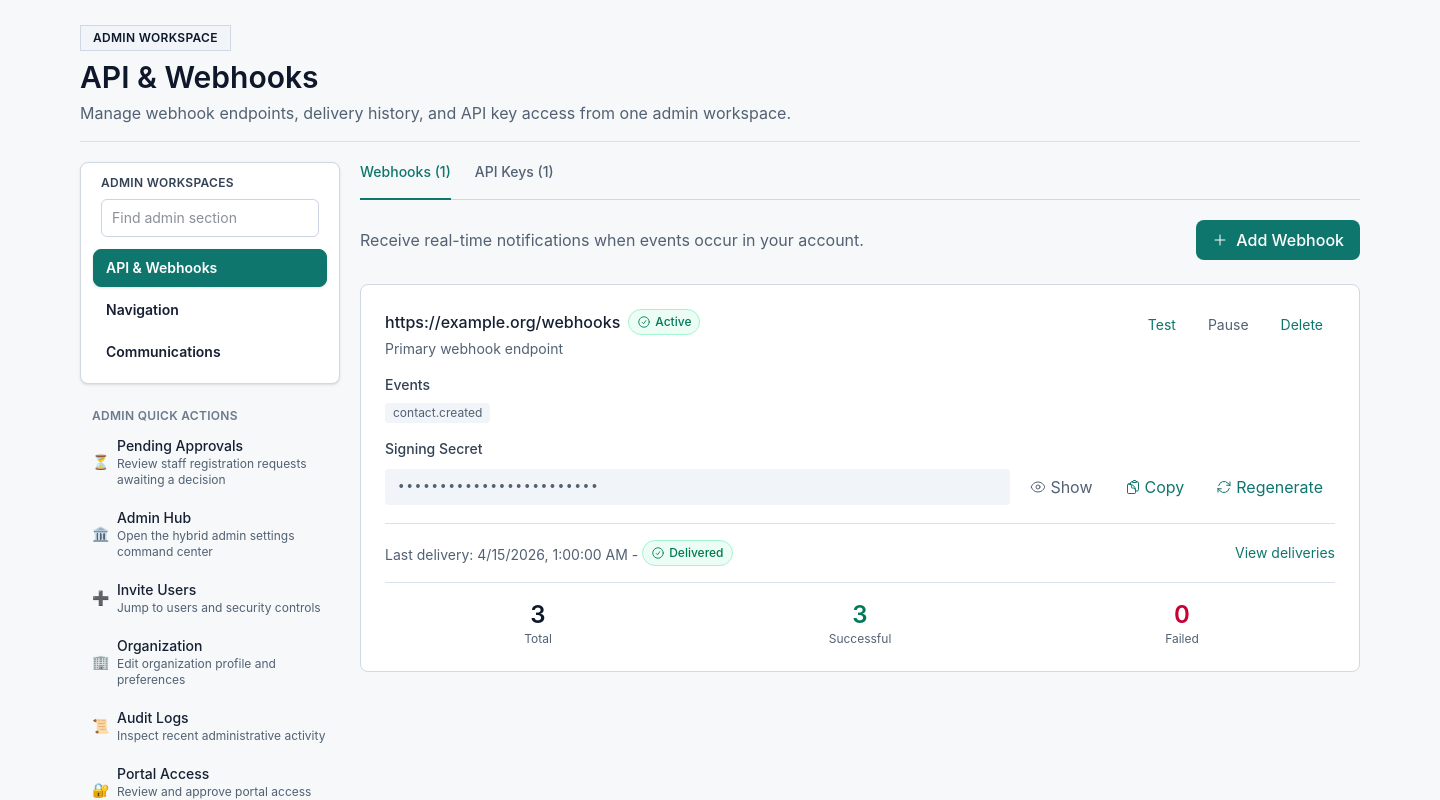
ApiSettingsPage › loads the api settings screen and switches between tabs
Expected: the button "Webhooks (1)" is shown, [360, 162, 451, 200]
Expected: the button "Add Webhook" is shown, [1196, 220, 1360, 260]
Click the button "API Keys (1)" at (514, 180), box [475, 162, 554, 200]
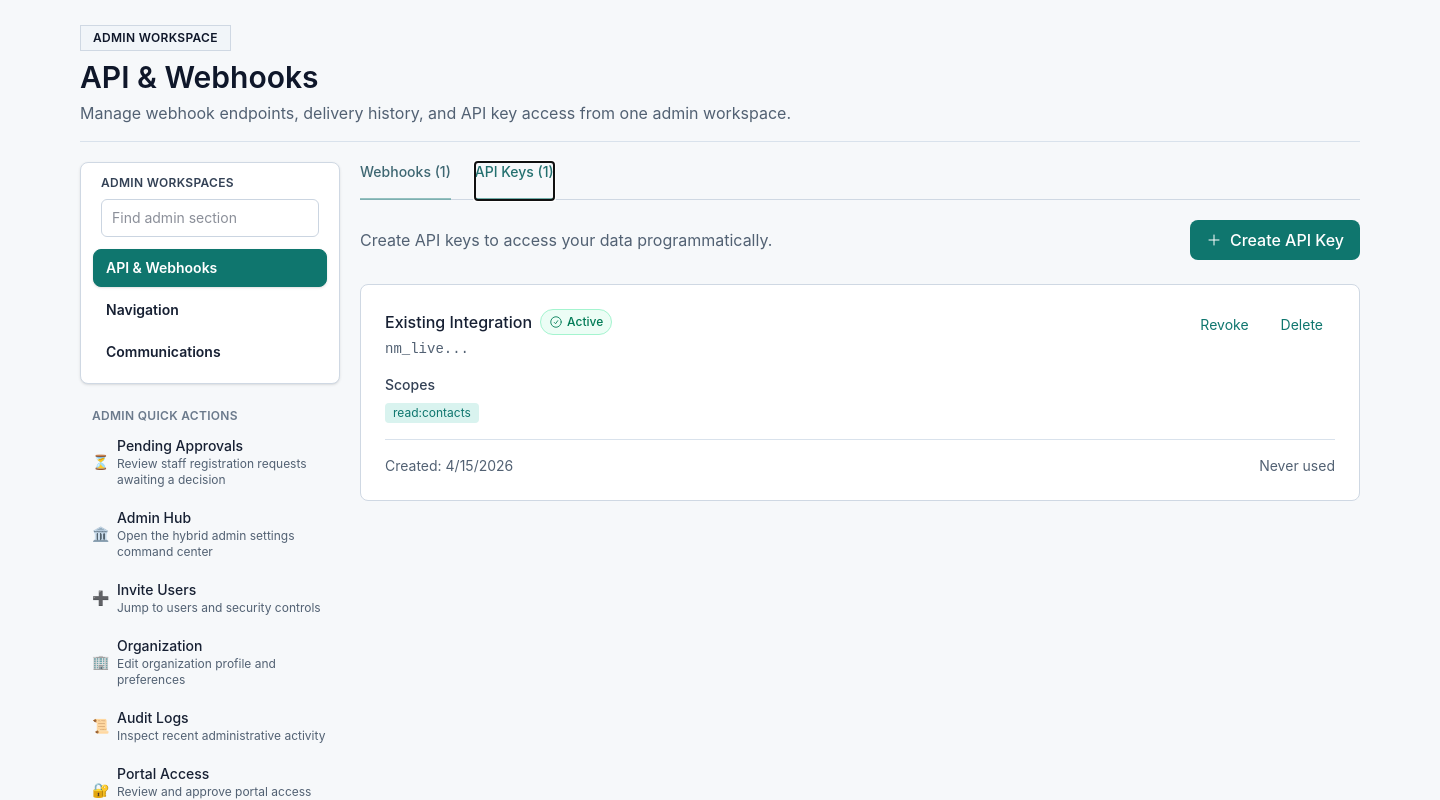
Expected: the button "Create API Key" is shown, [1190, 220, 1360, 260]
Click the button "Webhooks (1)" at (405, 180), box [360, 162, 451, 200]
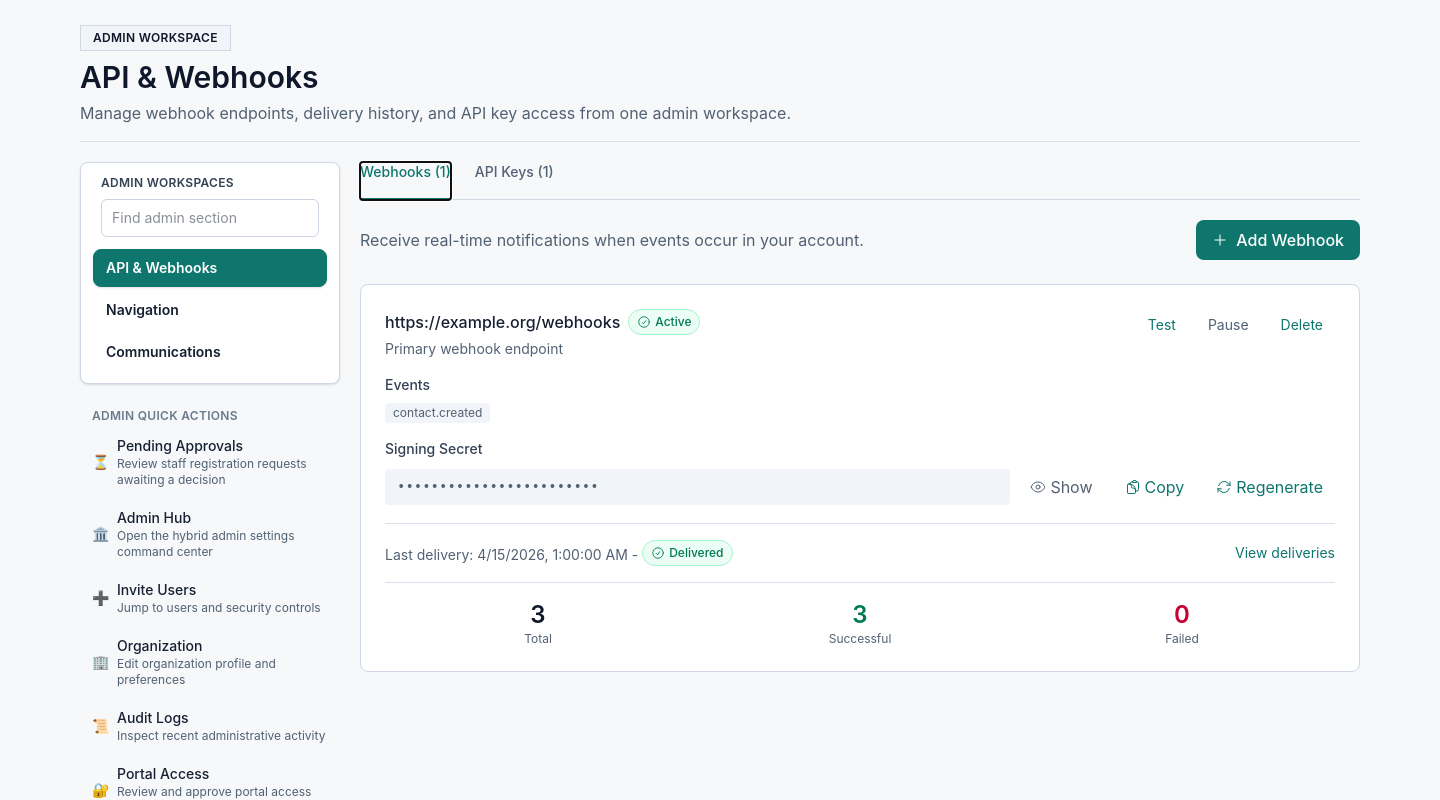
Expected: the button "Add Webhook" is shown, [1196, 220, 1360, 260]
